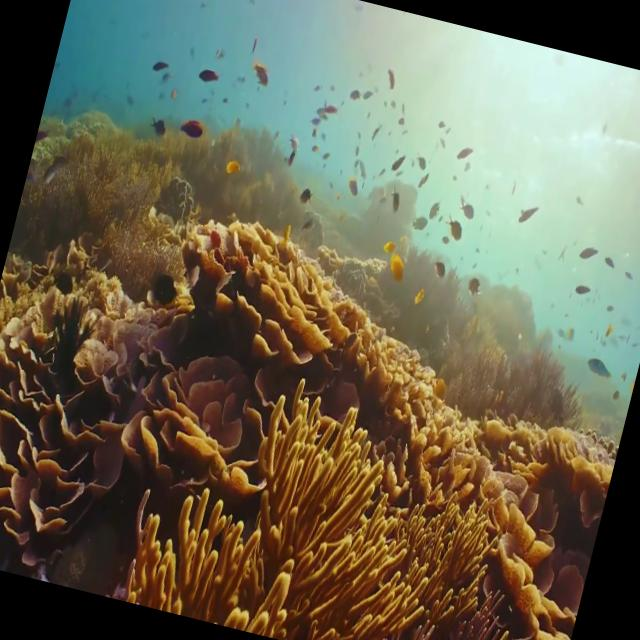fish: (374, 240, 412, 284), (245, 52, 274, 88), (175, 112, 208, 141), (440, 210, 468, 242), (223, 153, 248, 180)
